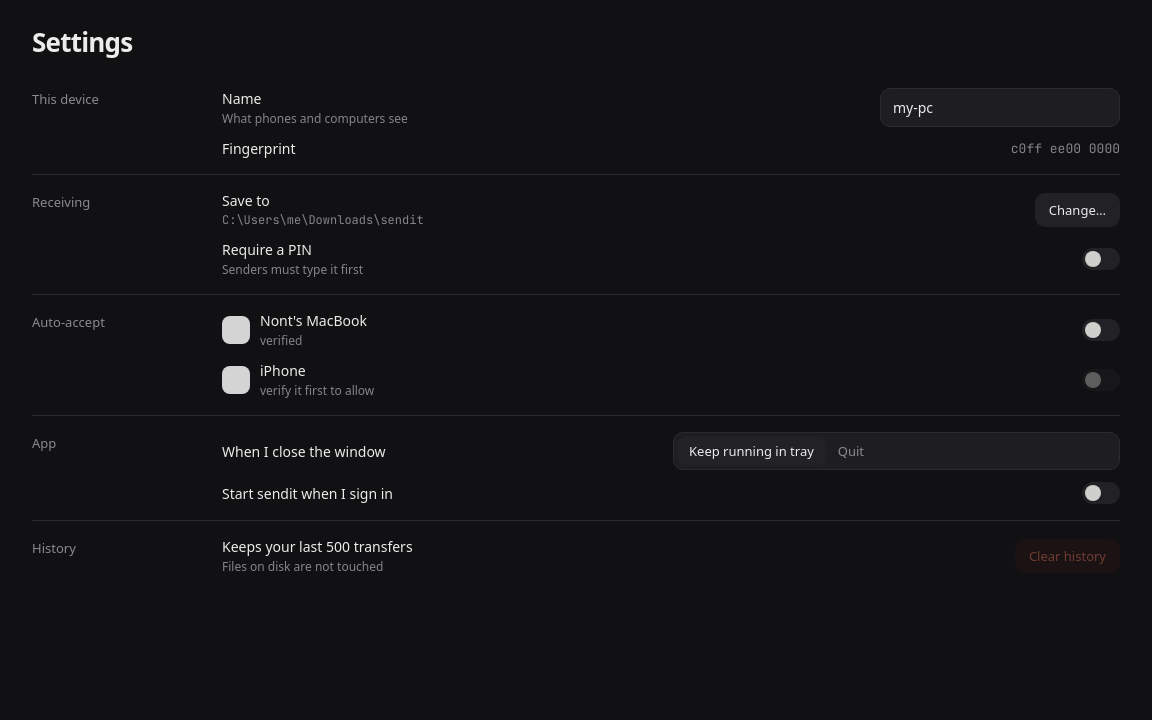
Scenario: choosing a folder saves it
Click the button "Change…".
click(1077, 210)  # box [1035,192,1120,226]
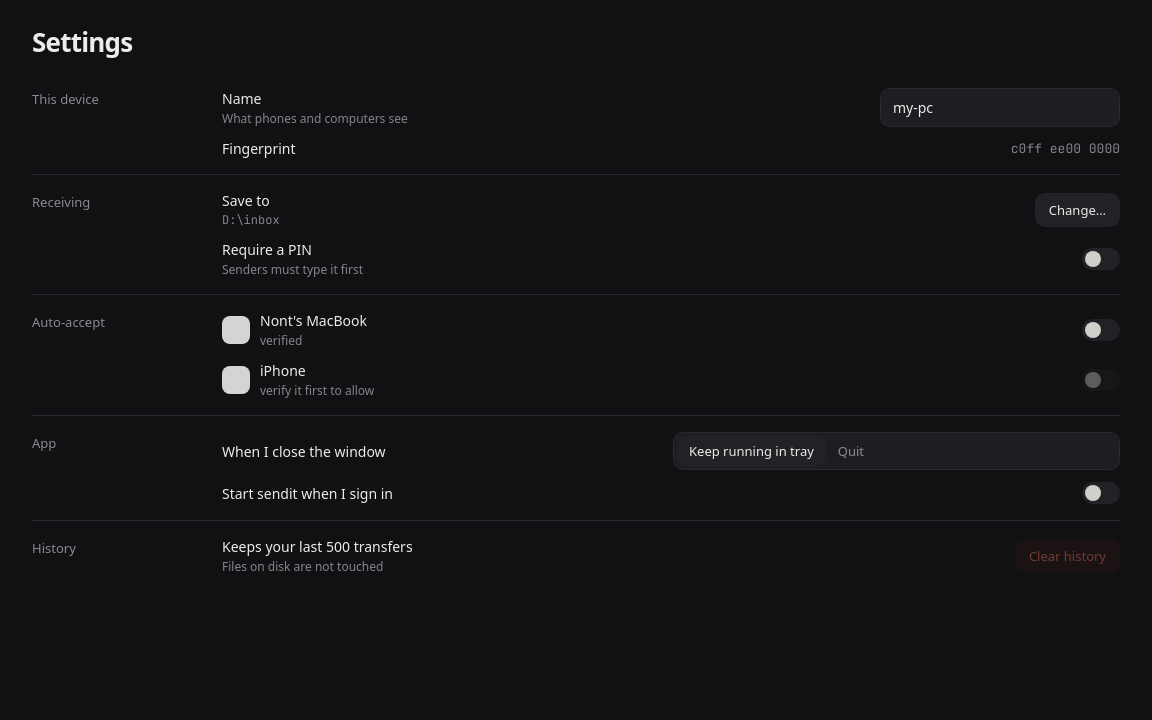
Now the text "D:\\inbox" is shown, box [222,212,280,228]
